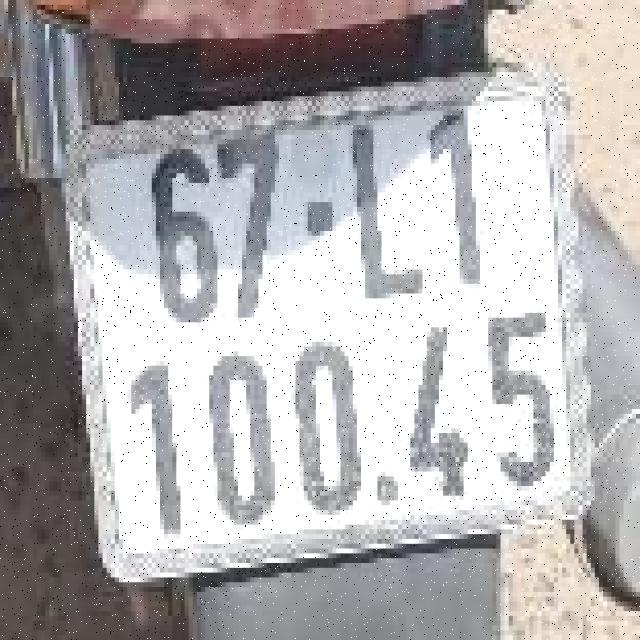0: (197, 337, 287, 529), (294, 325, 368, 517)
1: (117, 356, 191, 549), (425, 104, 494, 291)
4: (394, 318, 480, 500)
5: (482, 303, 568, 496)
6: (142, 137, 224, 330)
7: (212, 123, 290, 325)
L: (338, 108, 424, 306)
